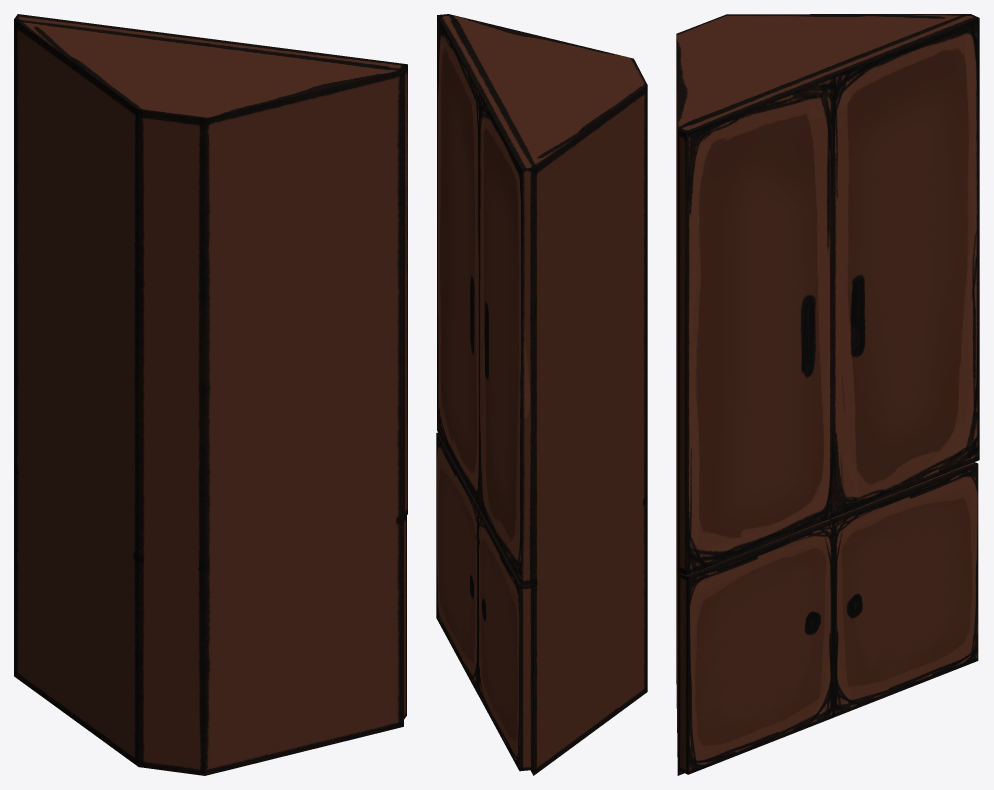
The model's file is wardrobe_final.fbx.
3 renders of one model, left to right at view 1: azimuth 30°, elevation 25°; view 2: azimuth 150°, elevation 25°; view 3: azimuth 270°, elevation 25°, orthographic. The views are drawn at different scales.
Parts seen in each view (by area): view 1: wardrobe_main.001; view 2: wardrobe_main.001, wardrobe_door_r.001, wardrobe_door_l.001; view 3: wardrobe_main.001, wardrobe_door_l.001, wardrobe_door_r.001.
Part boxes in pixels (x1,y1,x2,y2): wardrobe_main.001: (14, 14, 407, 775); wardrobe_main.001: (437, 14, 647, 775); wardrobe_door_r.001: (478, 509, 532, 771); wardrobe_door_l.001: (436, 432, 479, 694); wardrobe_main.001: (676, 14, 979, 775); wardrobe_door_l.001: (678, 519, 833, 774); wardrobe_door_r.001: (830, 462, 978, 717).
Size of the model in its own units: 1.26 by 3.18 by 1.35.
Materials: 3 (3 with a texture image).
